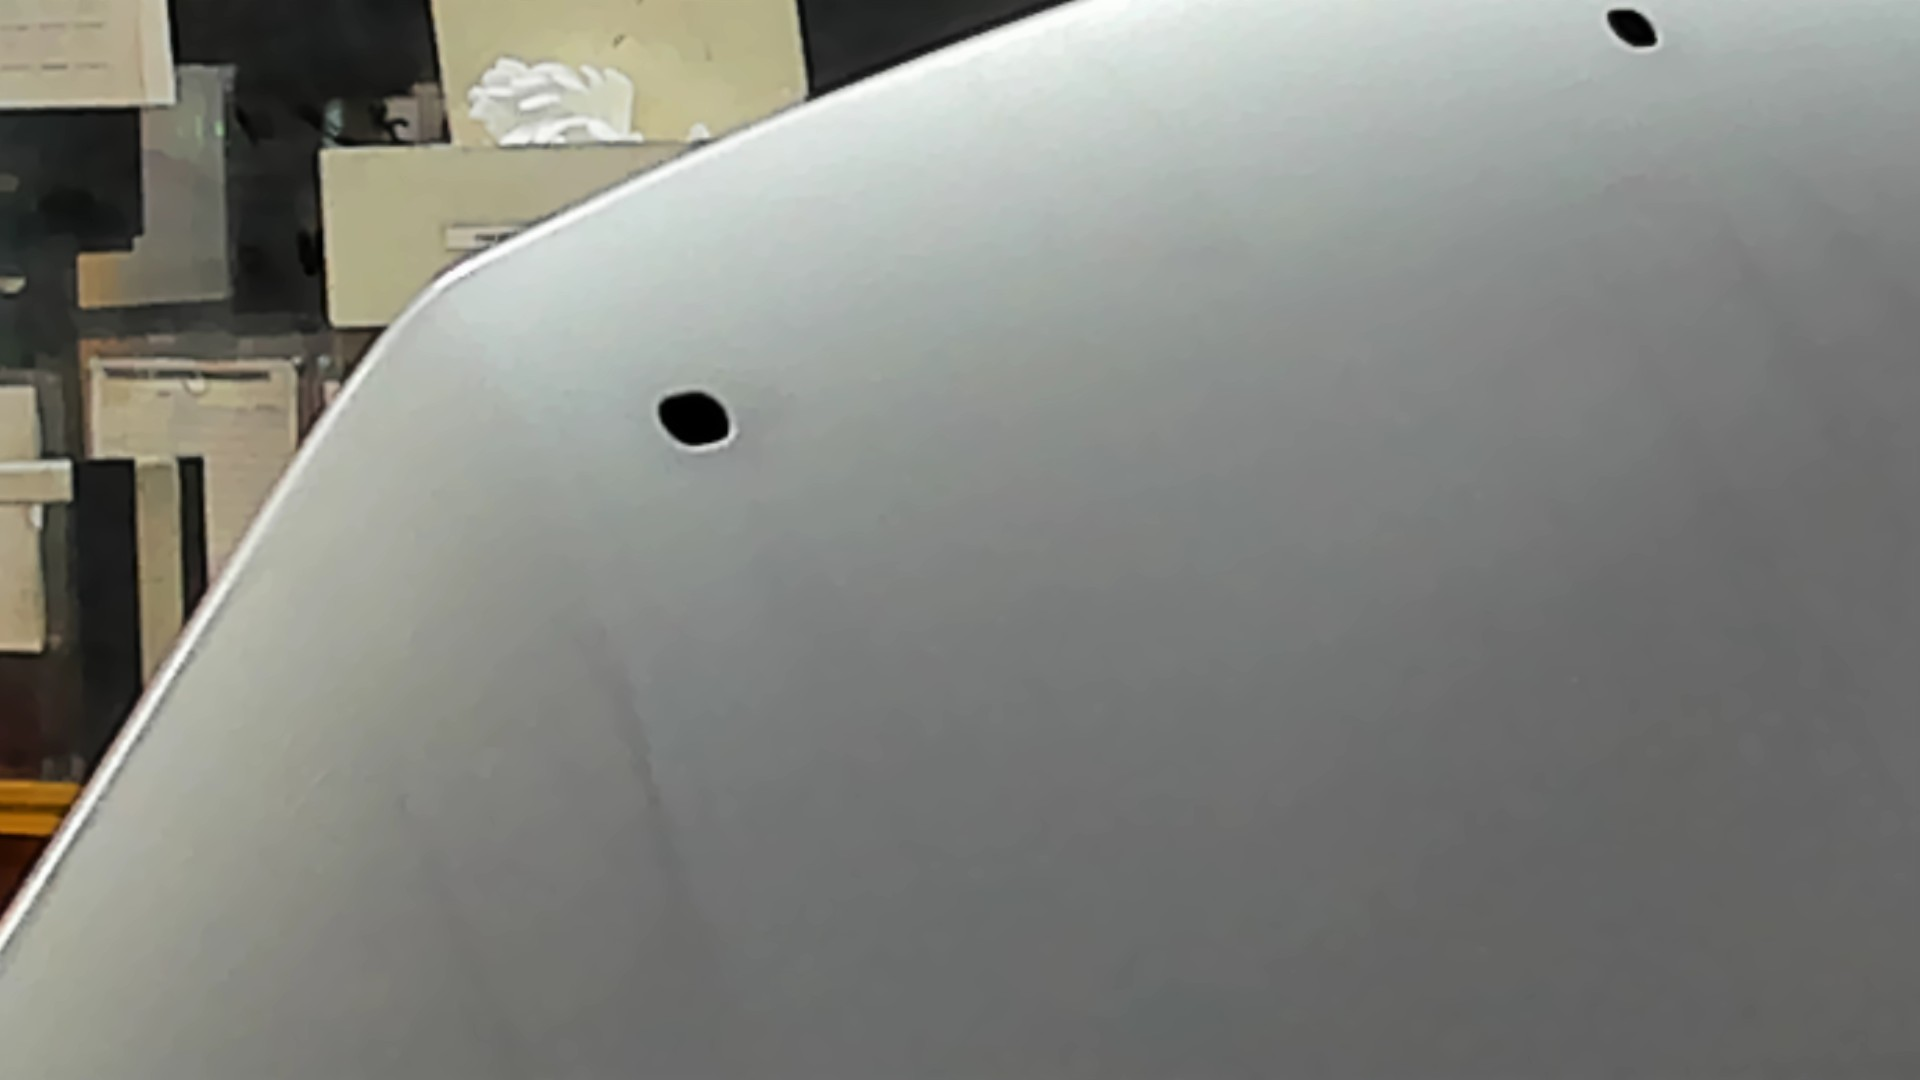Agujero: (651, 385, 741, 450), (1600, 1, 1664, 55)
